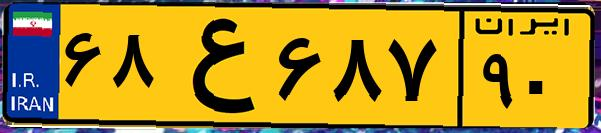0: (525, 38, 570, 115)
6: (270, 28, 330, 110), (57, 26, 110, 100)
7: (385, 28, 445, 110)
8: (330, 28, 385, 110), (110, 28, 158, 98)
9: (475, 38, 525, 113)
ع: (158, 12, 270, 120)
